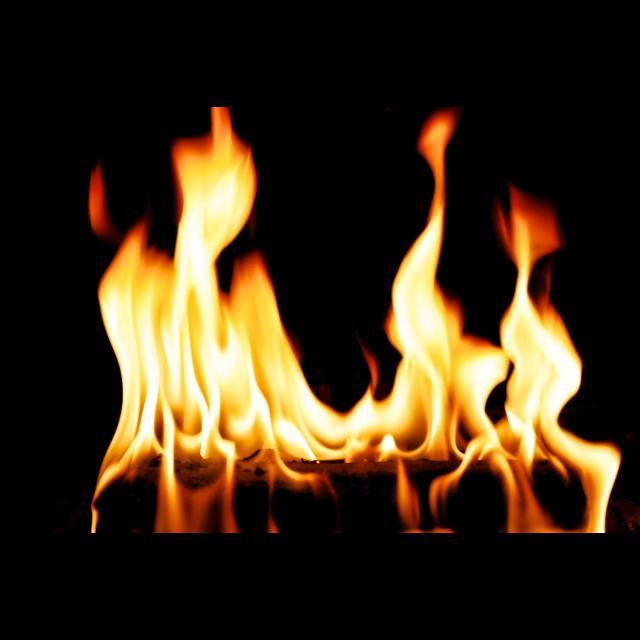fire-smoke: (92, 107, 620, 534)
